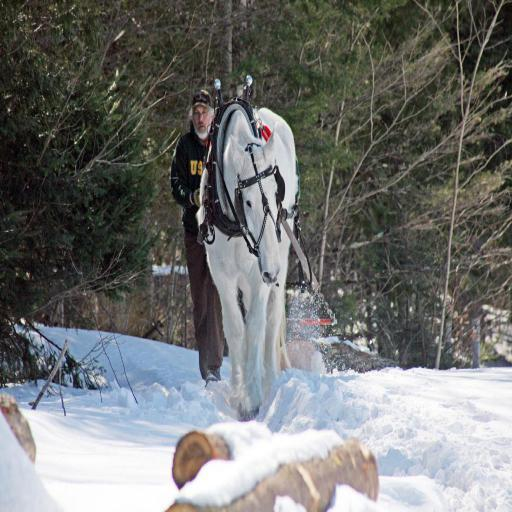horse: (203, 106, 302, 413)
